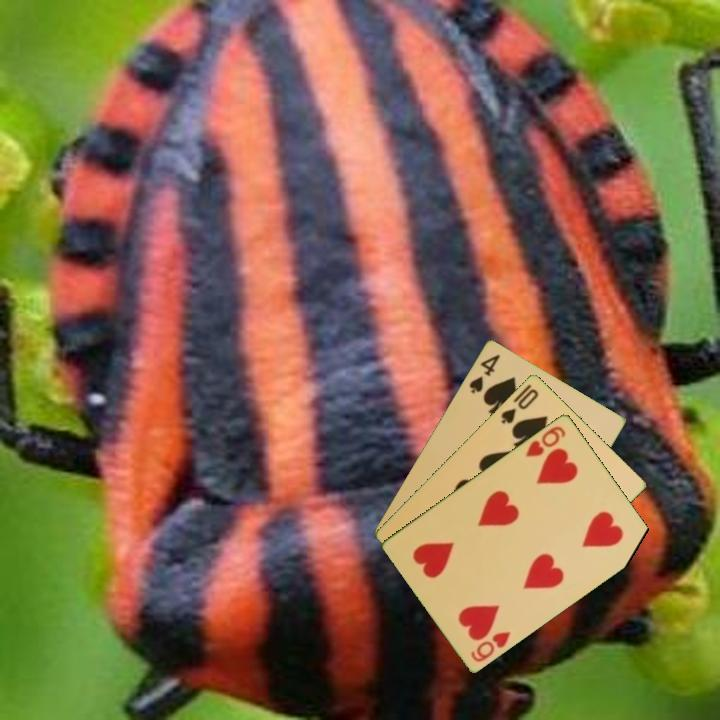10s: (497, 385, 541, 427)
4s: (465, 350, 503, 396)
6h: (522, 422, 569, 460), (467, 627, 514, 665)
